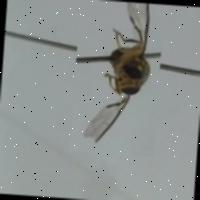Oriental-fruit-fly: (69, 0, 163, 156)
